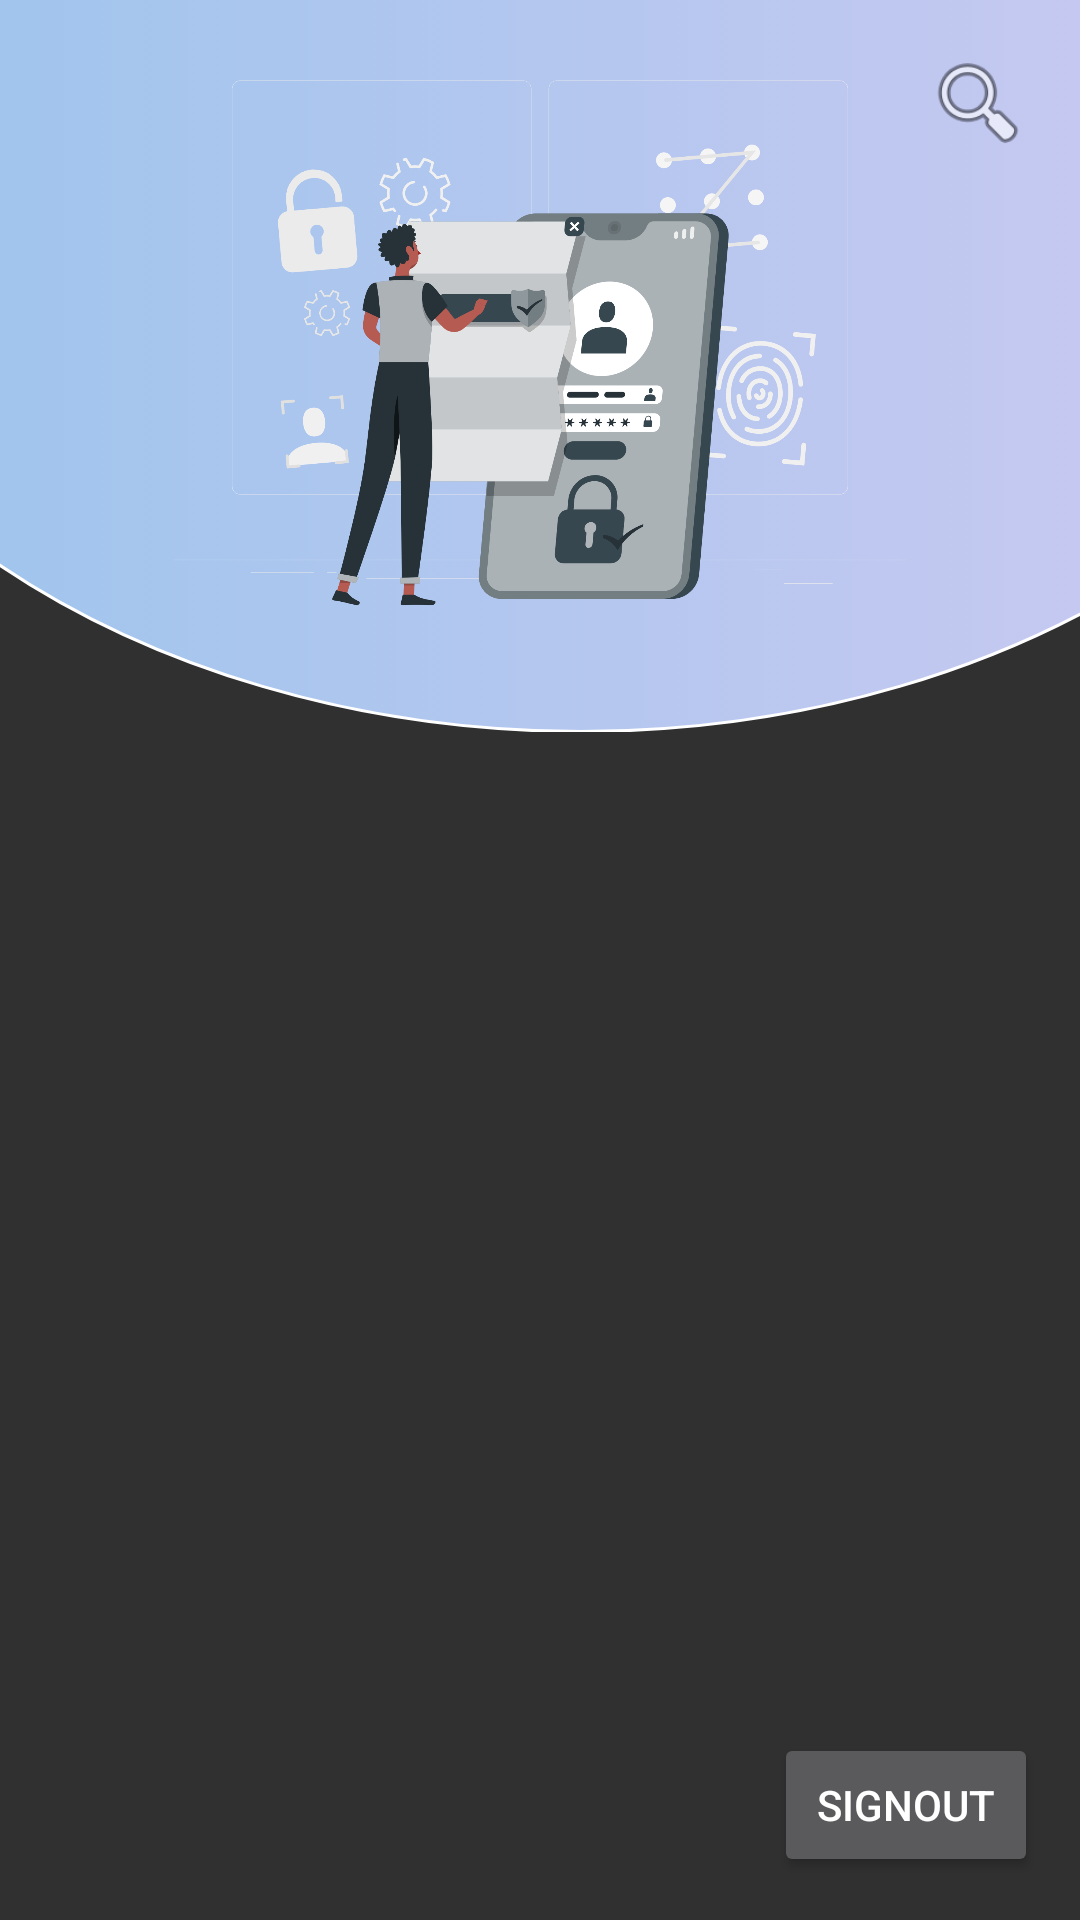

Icons on this 1080px x 1920px Android screen, each with the point to tap as (x,y):
search: (978,103)
